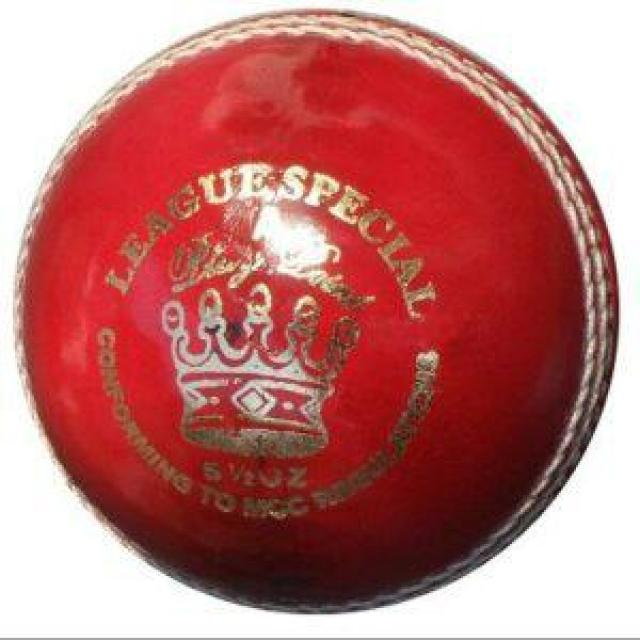ball: (19, 8, 617, 614)
